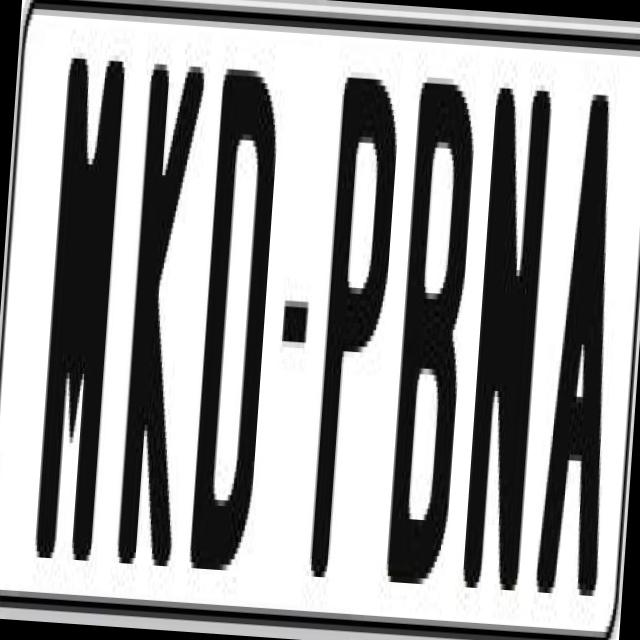A: (532, 93, 634, 632)
B: (380, 76, 473, 585)
D: (184, 50, 286, 578)
K: (112, 56, 205, 590)
M: (34, 52, 128, 567)
N: (460, 88, 560, 602)
P: (309, 70, 404, 598)
